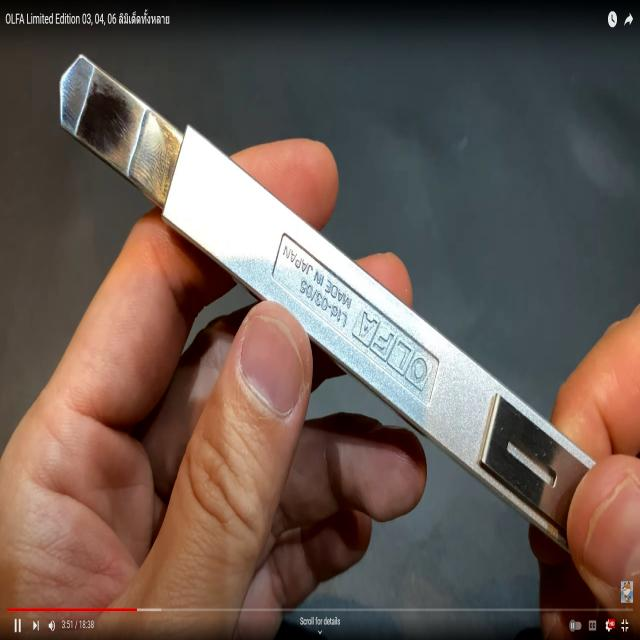cutter: (19, 36, 640, 568)
